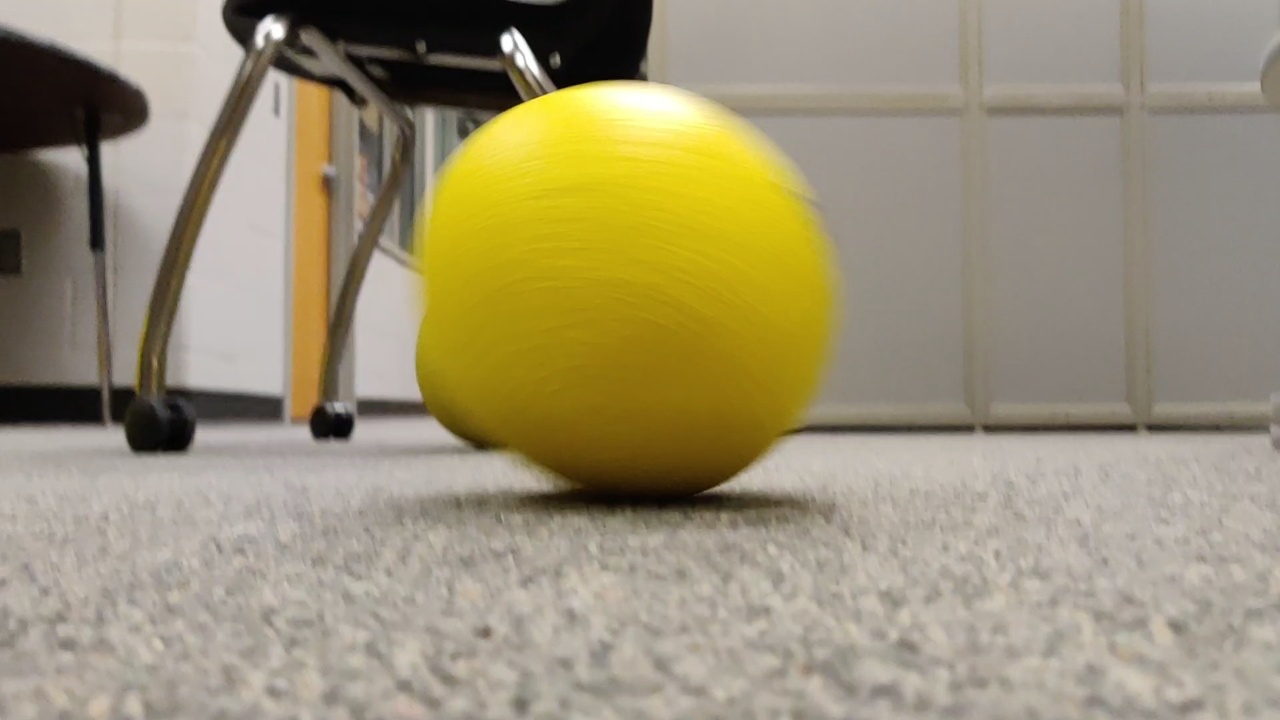Ball: (425, 78, 832, 499)
